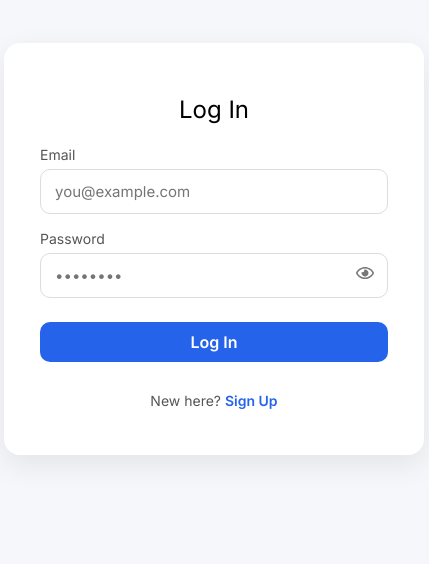
Test: перемикається на реєстрацію
Step 1. Click the text "Sign Up" → [251, 400], box [225, 392, 278, 409]
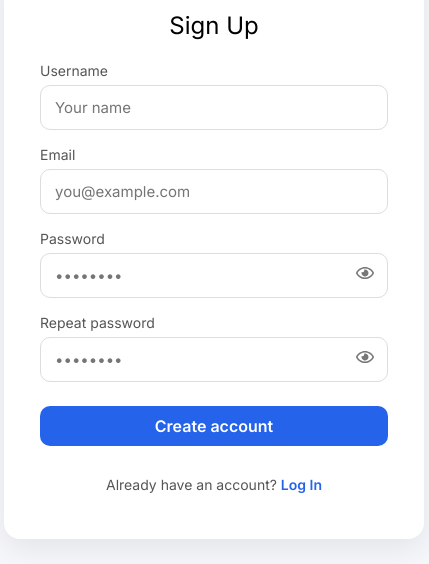
Expected: the button "Create account" is shown, [40, 406, 388, 446]
